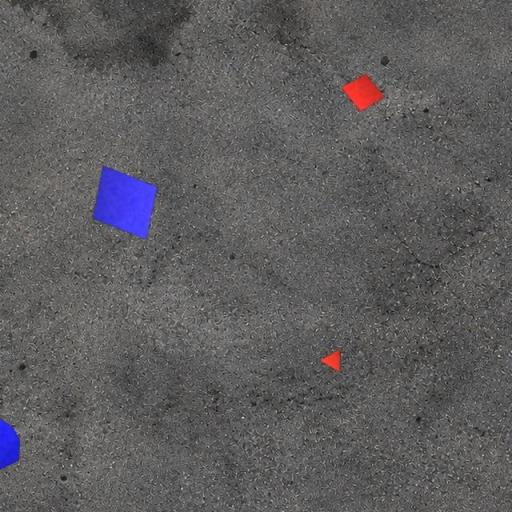BLUE_SQUARE: (92, 165, 158, 240)
RED_SQUARE: (340, 74, 386, 112)
